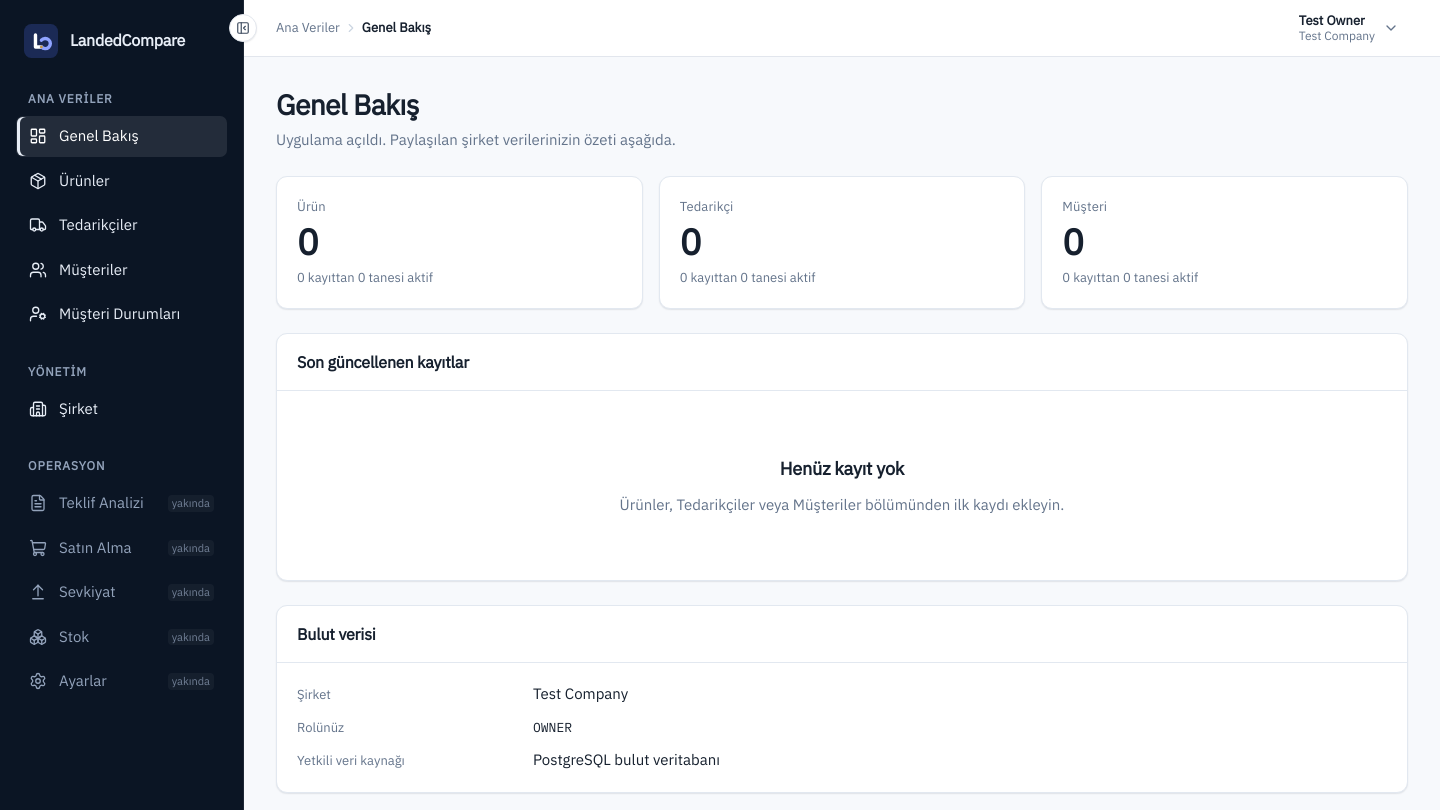
Test case: the application shell › navigates between the four Phase 9 screens
The image size is (1440, 810).
Expected: the navigation bar named "Ana menü" is shown, x1=16 y1=82 x2=227 y2=790
Expected: the heading "Genel Bakış" is shown, x1=276 y1=86 x2=419 y2=123
Click the link "Ürünler": (69, 180) x1=29 y1=170 x2=110 y2=190
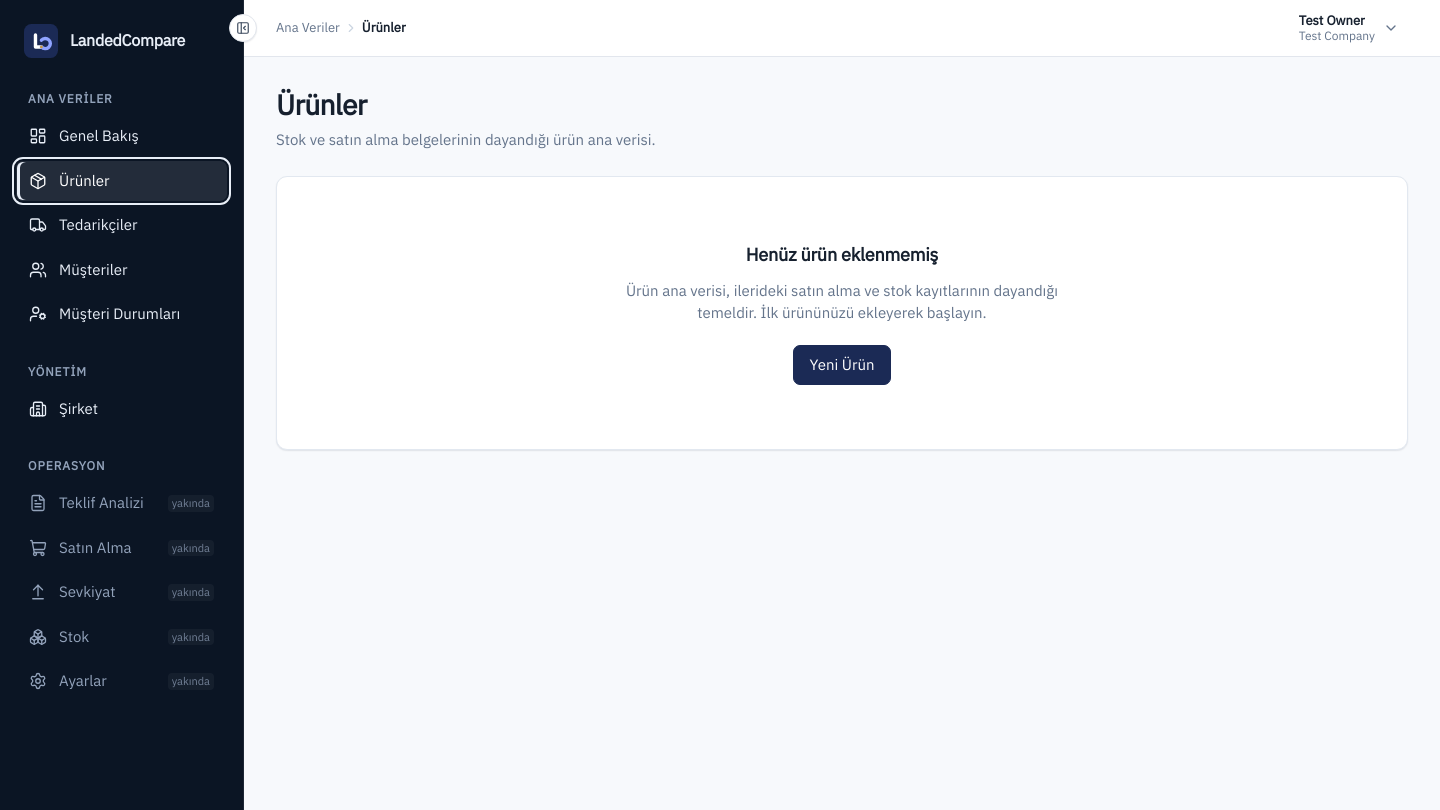
Expected: the heading "Ürünler" is shown, x1=276 y1=86 x2=366 y2=123
Click the link "Tedarikçiler": (83, 225) x1=29 y1=215 x2=138 y2=234
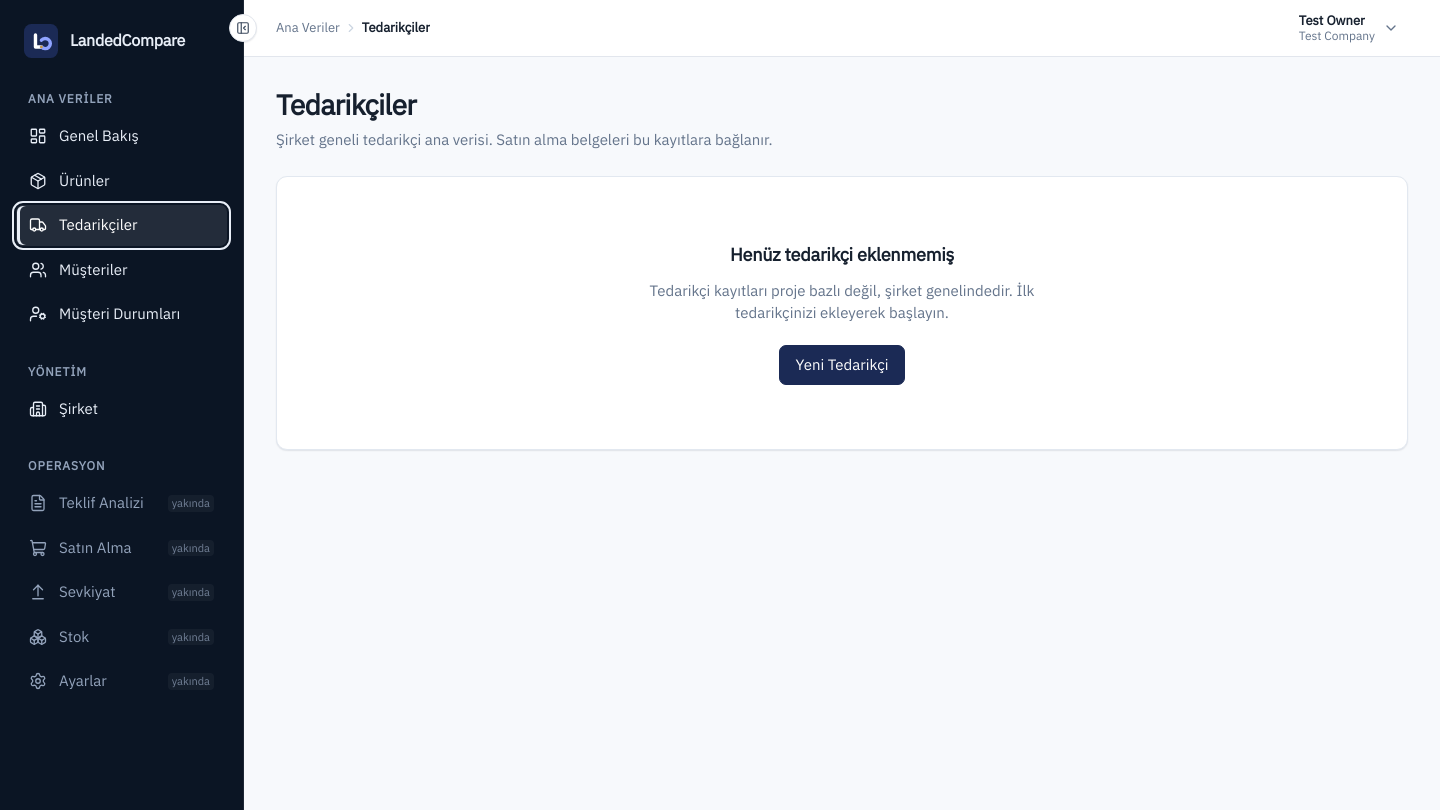
Expected: the heading "Tedarikçiler" is shown, x1=276 y1=86 x2=416 y2=123
Click the link "Müşteriler": (78, 269) x1=29 y1=260 x2=128 y2=279
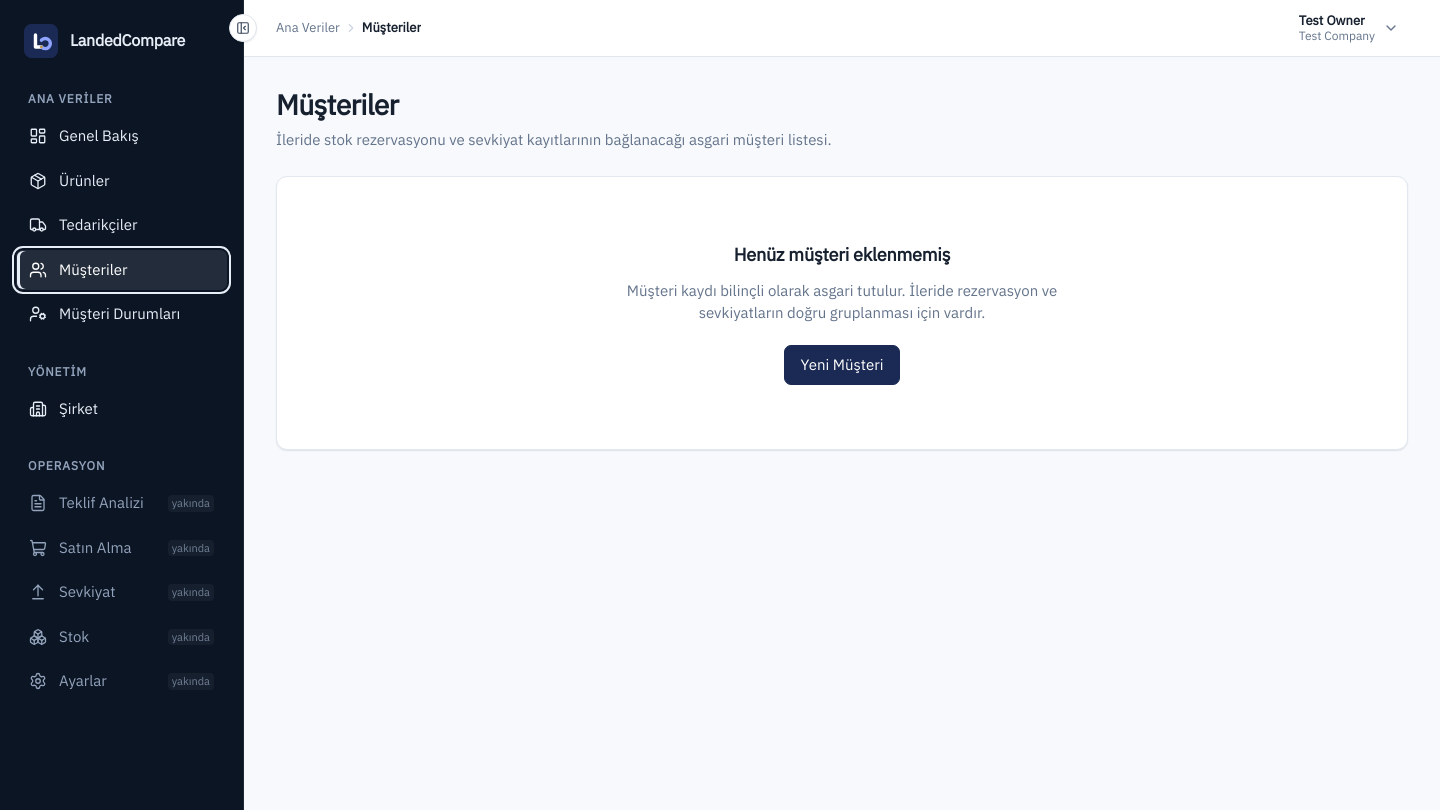
Expected: the heading "Müşteriler" is shown, x1=276 y1=86 x2=398 y2=123
Click the link "Genel Bakış": (84, 136) x1=29 y1=126 x2=139 y2=145
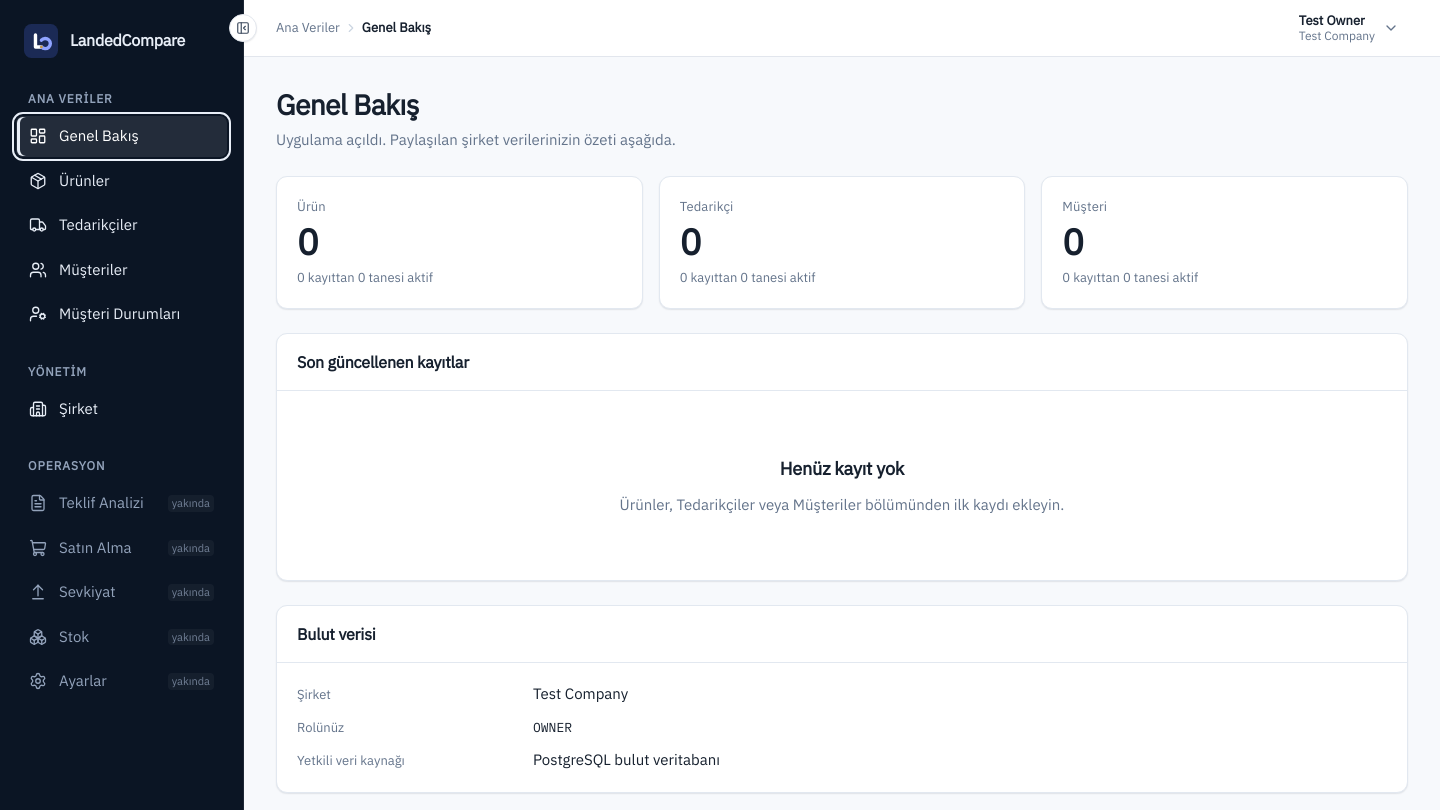
Expected: the heading "Genel Bakış" is shown, x1=276 y1=86 x2=419 y2=123
